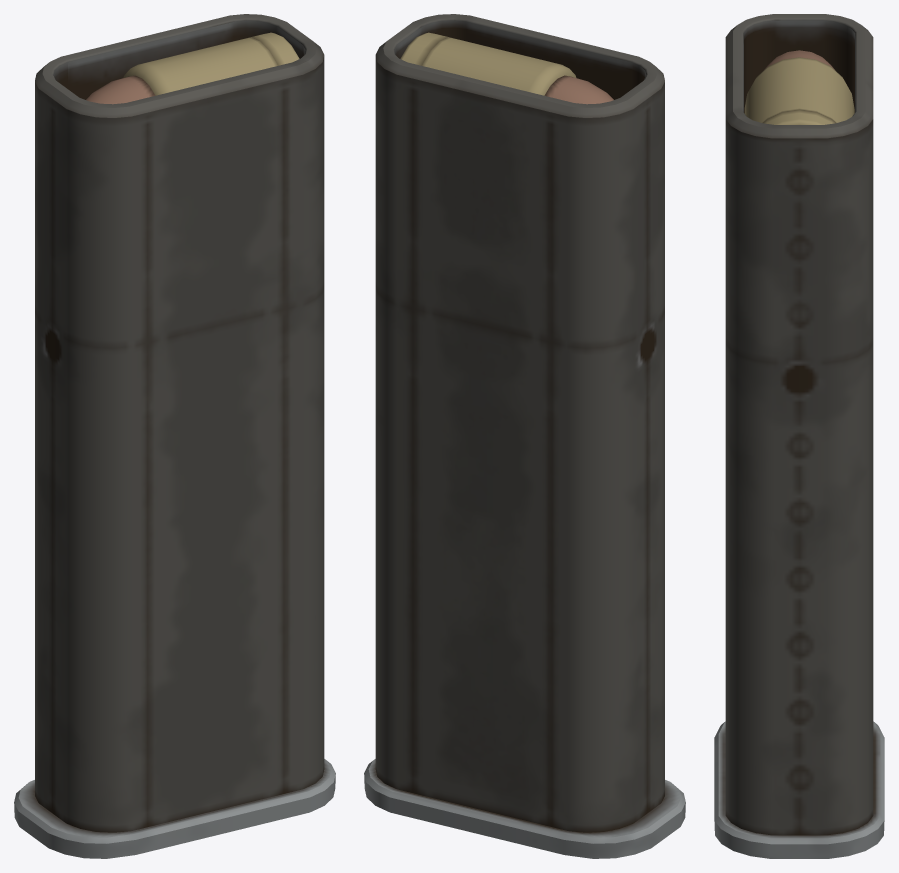
The model's file is R_lower_arm_gun_02_B1_Mag_01.fbx.
3 renders of one model, left to right at view 1: azimuth 30°, elevation 25°; view 2: azimuth 150°, elevation 25°; view 3: azimuth 270°, elevation 25°, orthographic. The views are drawn at different scales.
Visible parts, largest first — view 1: R_lower_arm_gun_02_B1_Mag_01; view 2: R_lower_arm_gun_02_B1_Mag_01; view 3: R_lower_arm_gun_02_B1_Mag_01.
Boxes of the visible parts, bbox=[...] form: R_lower_arm_gun_02_B1_Mag_01: bbox=[14, 14, 335, 858]; R_lower_arm_gun_02_B1_Mag_01: bbox=[364, 14, 685, 858]; R_lower_arm_gun_02_B1_Mag_01: bbox=[714, 14, 884, 858].
Size of the model in its own units: 13.76 by 34.57 by 7.34.
1 material, 1 textured.
